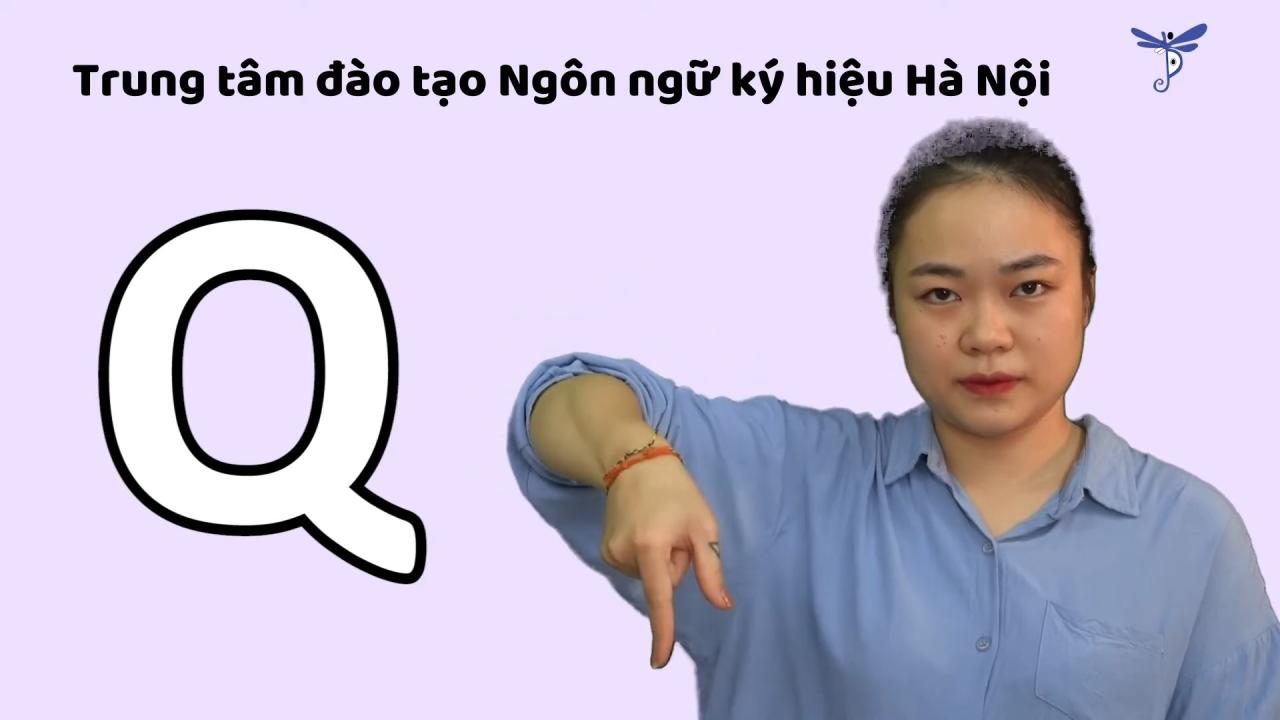Q: (590, 449, 746, 685)
